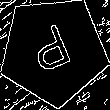P_SE: (27, 21, 80, 81)
